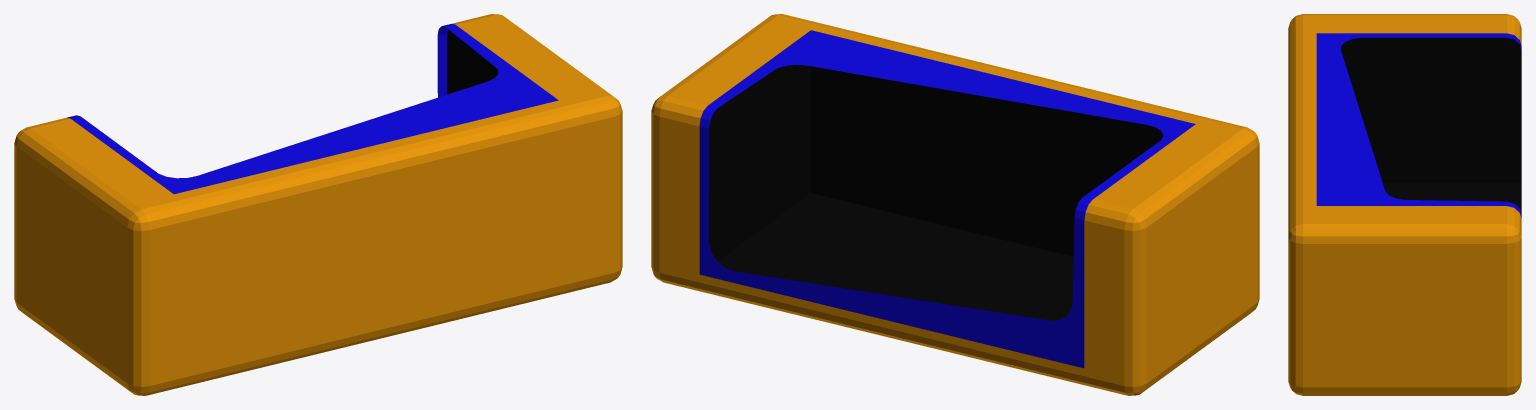
3 views of the same model, side by side, from view 1: azimuth 30°, elevation 25°; view 2: azimuth 150°, elevation 25°; view 3: azimuth 270°, elevation 25° (orthographic). The views are drawn at different scales.
Parts seen in each view (by area): view 1: Box; view 2: Box; view 3: Box.
Boxes of the visible parts, <box> form: Box: <box>14,14,622,395</box>; Box: <box>651,14,1259,395</box>; Box: <box>1288,14,1521,395</box>.
Size of the model in its own units: 58.41 by 20.99 by 26.06.
